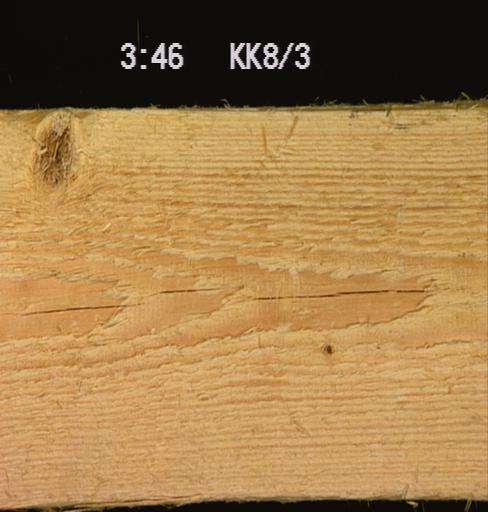small_knot: (320, 341, 335, 356)
sound_knot: (24, 109, 78, 194)
split: (249, 285, 425, 301), (16, 300, 138, 317), (142, 285, 223, 294)
wave: (0, 98, 487, 116)
